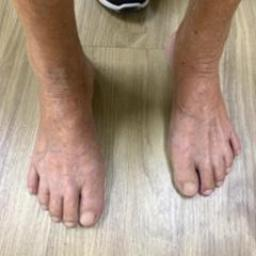Dorsal View -Both Feet-: (8, 28, 250, 239)
